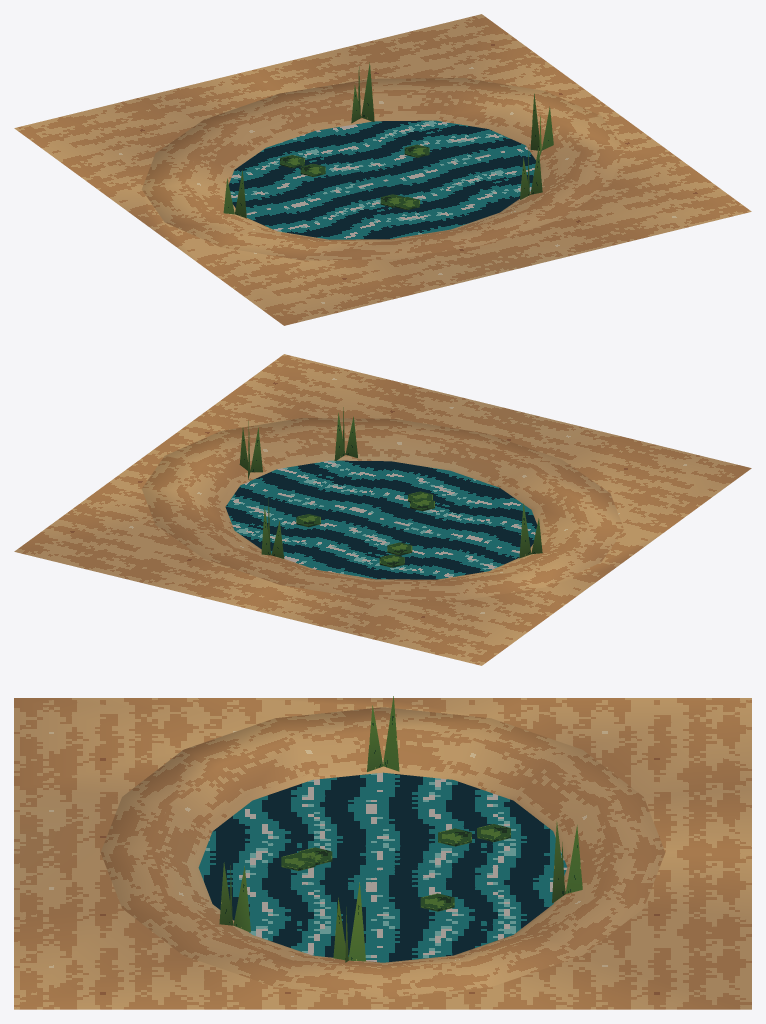
Rendered from wild.oasis.glb.
3 views of the same model, one above another, from view 1: azimuth 30°, elevation 25°; view 2: azimuth 150°, elevation 25°; view 3: azimuth 270°, elevation 25° (orthographic). The views are drawn at different scales.
Parts seen in each view (by area): view 1: kit_shell_skirt, kit_bank, kit_shell_water, kit_shell_reeds, kit_pads; view 2: kit_shell_skirt, kit_bank, kit_shell_water, kit_shell_reeds, kit_pads; view 3: kit_shell_skirt, kit_bank, kit_shell_water, kit_shell_reeds, kit_pads.
Part boxes in pixels (box(x1,y1,x2,y2)): kit_shell_skirt: box(14, 14, 751, 325); kit_bank: box(141, 78, 623, 260); kit_shell_water: box(229, 120, 535, 239); kit_shell_reeds: box(223, 62, 553, 218); kit_pads: box(280, 144, 429, 209); kit_shell_skirt: box(14, 354, 751, 665); kit_bank: box(142, 418, 624, 600); kit_shell_water: box(225, 460, 537, 579); kit_shell_reeds: box(239, 407, 542, 558); kit_pads: box(296, 491, 434, 567); kit_shell_skirt: box(14, 698, 751, 1009); kit_bank: box(100, 707, 665, 998); kit_shell_water: box(198, 772, 567, 962); kit_shell_reeds: box(219, 696, 582, 962); kit_pads: box(281, 824, 510, 911).
Bounding box in the file's own units: 12 × 1.56 × 12.
4 materials, 4 textured.
